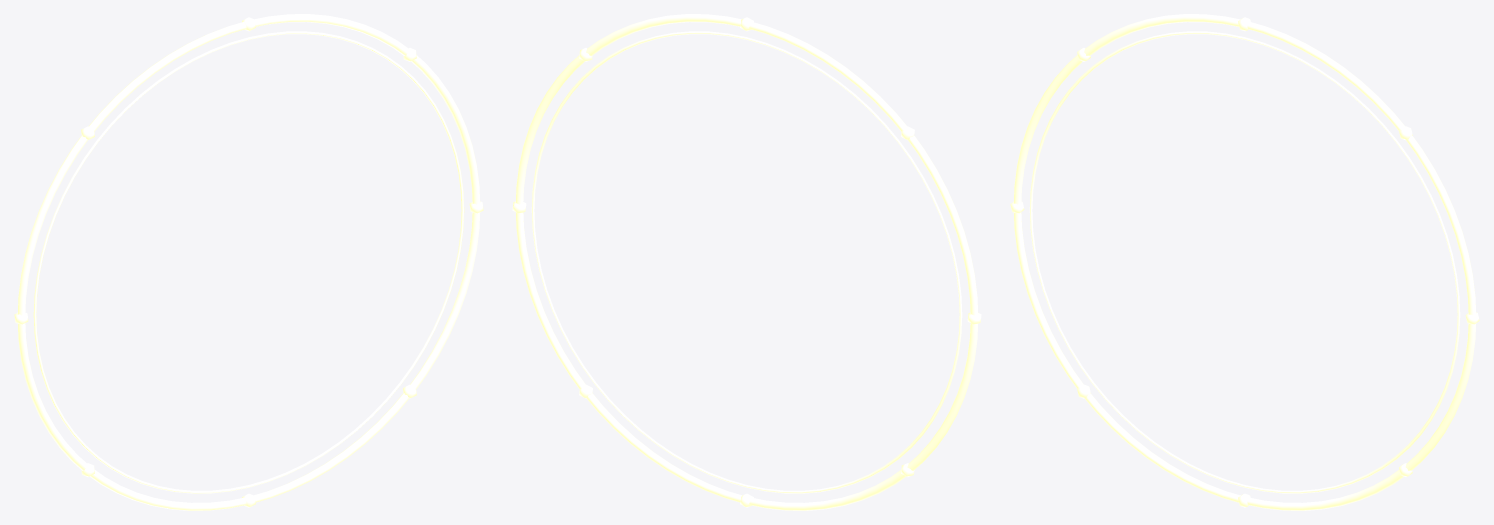
File: gold_ring.glb
The picture shows the model from 3 angles, left to right: view 1: azimuth 30°, elevation 25°; view 2: azimuth 150°, elevation 25°; view 3: azimuth 330°, elevation 25°; orthographic projection.
Parts seen in each view (by area): view 1: Ring, RingThin; view 2: Ring, RingThin; view 3: Ring, RingThin.
Boxes of the visible parts, x1,y1,x2,y2 form: Ring: [17, 14, 480, 510]; RingThin: [33, 31, 464, 493]; Ring: [515, 14, 978, 510]; RingThin: [531, 31, 962, 493]; Ring: [1013, 14, 1476, 510]; RingThin: [1029, 31, 1460, 493].
Size of the model in its own units: 6.16 by 6.18 by 0.1531.
